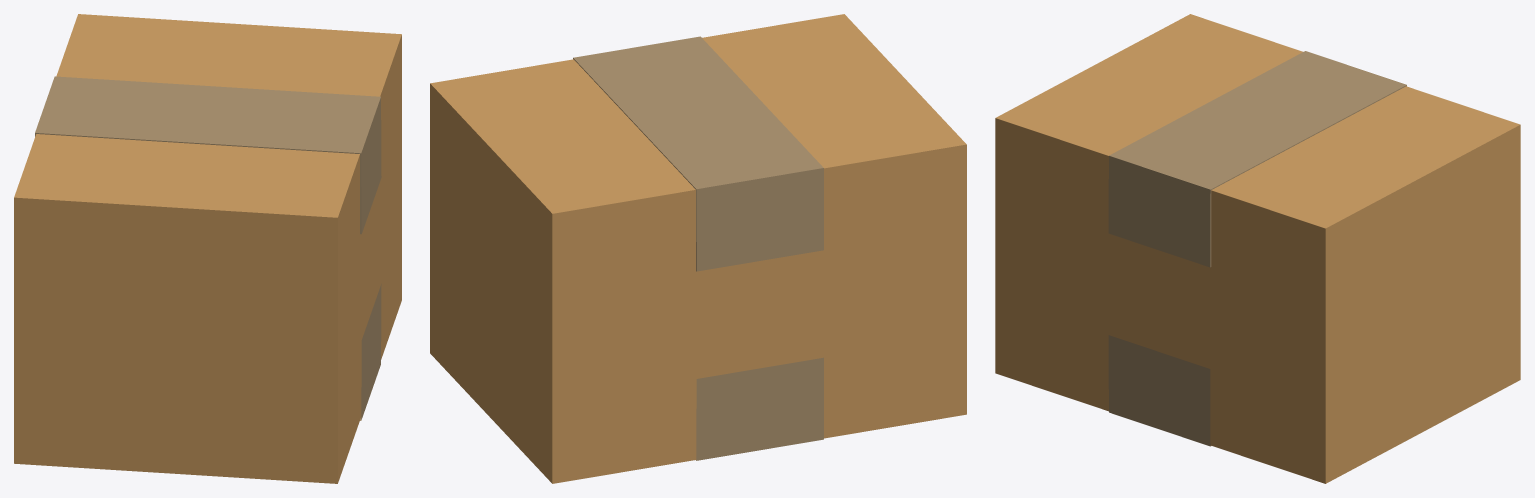
The model's file is Caja.fbx.
3 views of the same model, side by side, from view 1: azimuth 30°, elevation 25°; view 2: azimuth 150°, elevation 25°; view 3: azimuth 270°, elevation 25° (orthographic). The views are drawn at different scales.
Visible parts, largest first — view 1: Caja 3; view 2: Caja 3; view 3: Caja 3.
Part boxes in pixels (bbox=[...]): Caja 3: bbox=[14, 14, 401, 483]; Caja 3: bbox=[430, 14, 966, 483]; Caja 3: bbox=[995, 14, 1520, 483].
Size of the model in its own units: 6.81 by 3.8 by 7.05.
